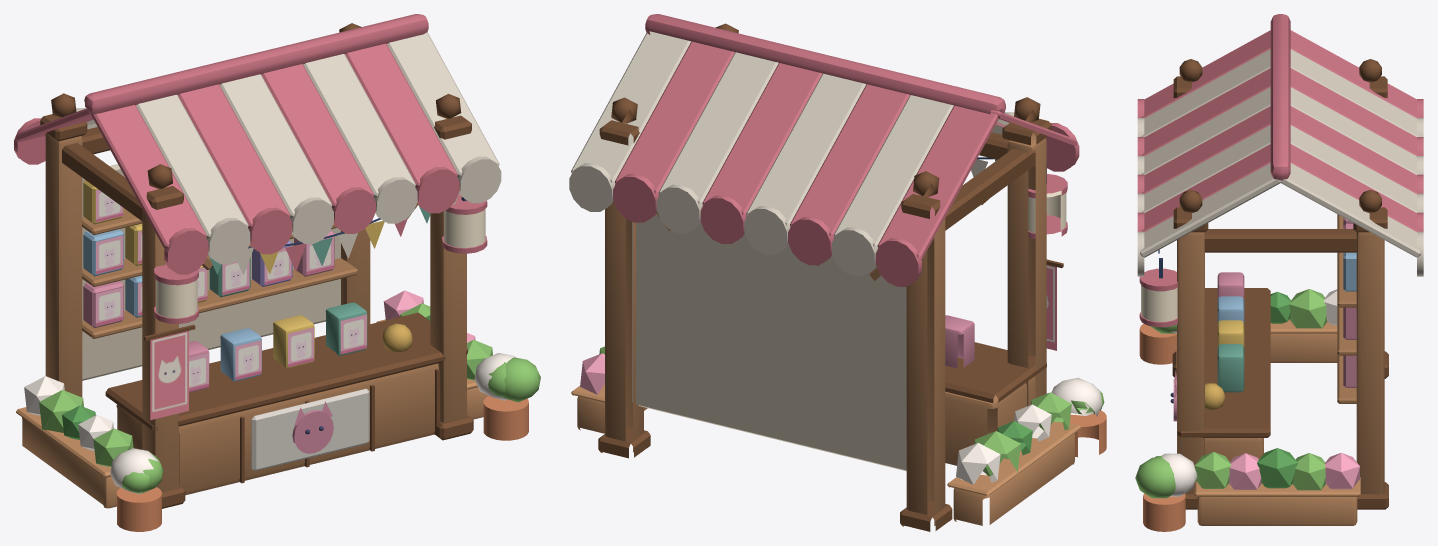
The model's file is ac_booth_r0.glb.
3 renders of one model, left to right at view 1: azimuth 30°, elevation 25°; view 2: azimuth 150°, elevation 25°; view 3: azimuth 270°, elevation 25°, orthographic. The views are drawn at different scales.
Parts seen in each view (by area): view 1: body, nomask; view 2: body, nomask; view 3: body, nomask.
Part boxes in pixels (x1,y1,x2,y2): body: [14, 14, 501, 508]; nomask: [16, 290, 540, 531]; body: [569, 14, 1079, 531]; nomask: [571, 346, 1106, 525]; body: [1137, 14, 1423, 509]; nomask: [1135, 289, 1360, 531].
Size of the model in its own units: 6.72 by 5.81 by 4.34.
5 materials, 2 textured.
